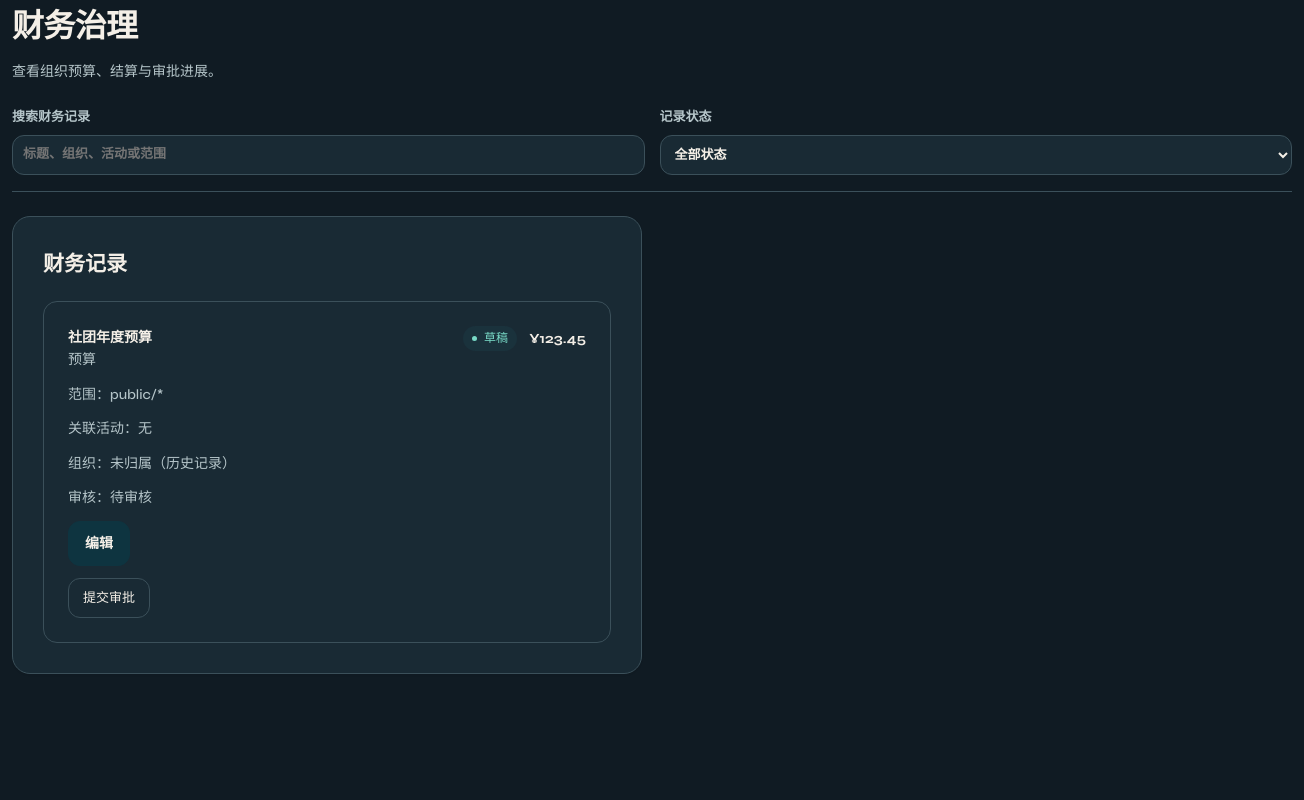
Test case: FinancePage › rechecks transition permission at click time after policy expiry
This screenshot has width=1304, height=800.
Click the button "提交审批".
click(109, 598)  # box [68,578,150,618]
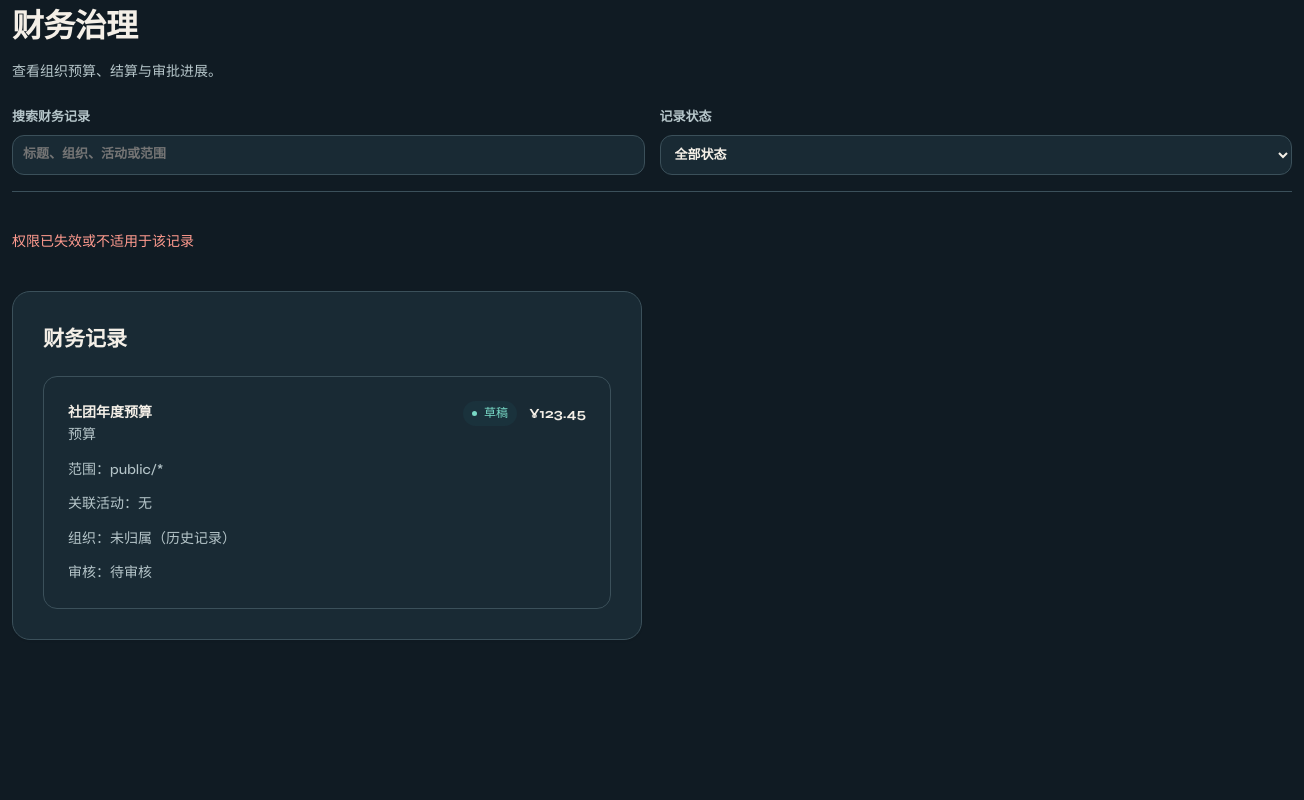
Expected: the message reads "权限已失效或不适用于该记录", [12,233,194,250]
